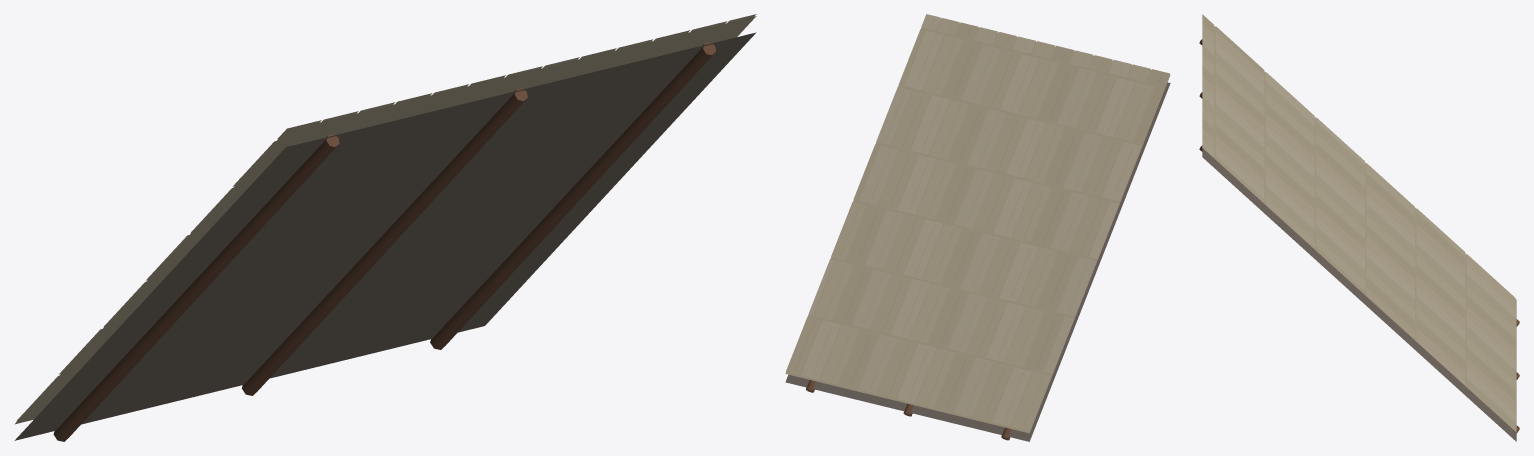
Rendered from Roof_Slope_45.glb.
3 renders of one model, left to right at view 1: azimuth 30°, elevation 25°; view 2: azimuth 150°, elevation 25°; view 3: azimuth 270°, elevation 25°, orthographic. The views are drawn at different scales.
Visible parts, largest first — view 1: _MeshInstance3D_3483, _MeshInstance3D_3485, _MeshInstance3D_3486, _MeshInstance3D_3484; view 2: _MeshInstance3D_3483; view 3: _MeshInstance3D_3483.
Boxes of the visible parts, left/top/right/bottom form: _MeshInstance3D_3483: left=14, top=14, right=756, bottom=440; _MeshInstance3D_3485: left=242, top=88, right=527, bottom=395; _MeshInstance3D_3486: left=430, top=42, right=715, bottom=349; _MeshInstance3D_3484: left=53, top=134, right=339, bottom=441; _MeshInstance3D_3483: left=785, top=14, right=1170, bottom=441; _MeshInstance3D_3483: left=1202, top=14, right=1516, bottom=441.
Bounding box in the file's own units: 3 × 3.18 × 3.06.
